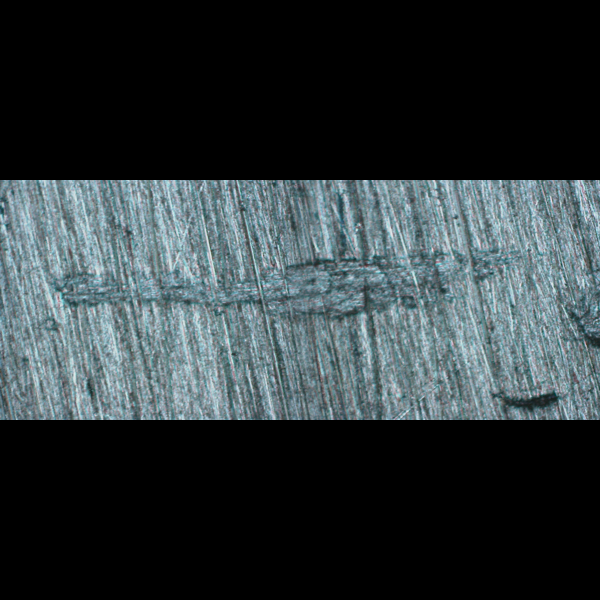d: (47, 239, 521, 321)
